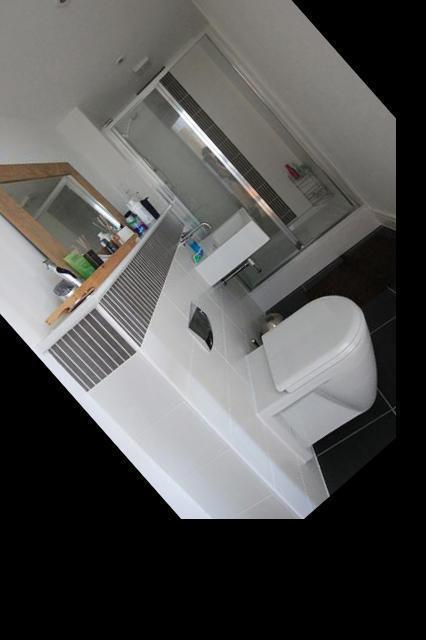Ducha: (104, 34, 380, 319)
Lavamanos: (166, 188, 278, 298)
Sanitario: (206, 257, 426, 477)
